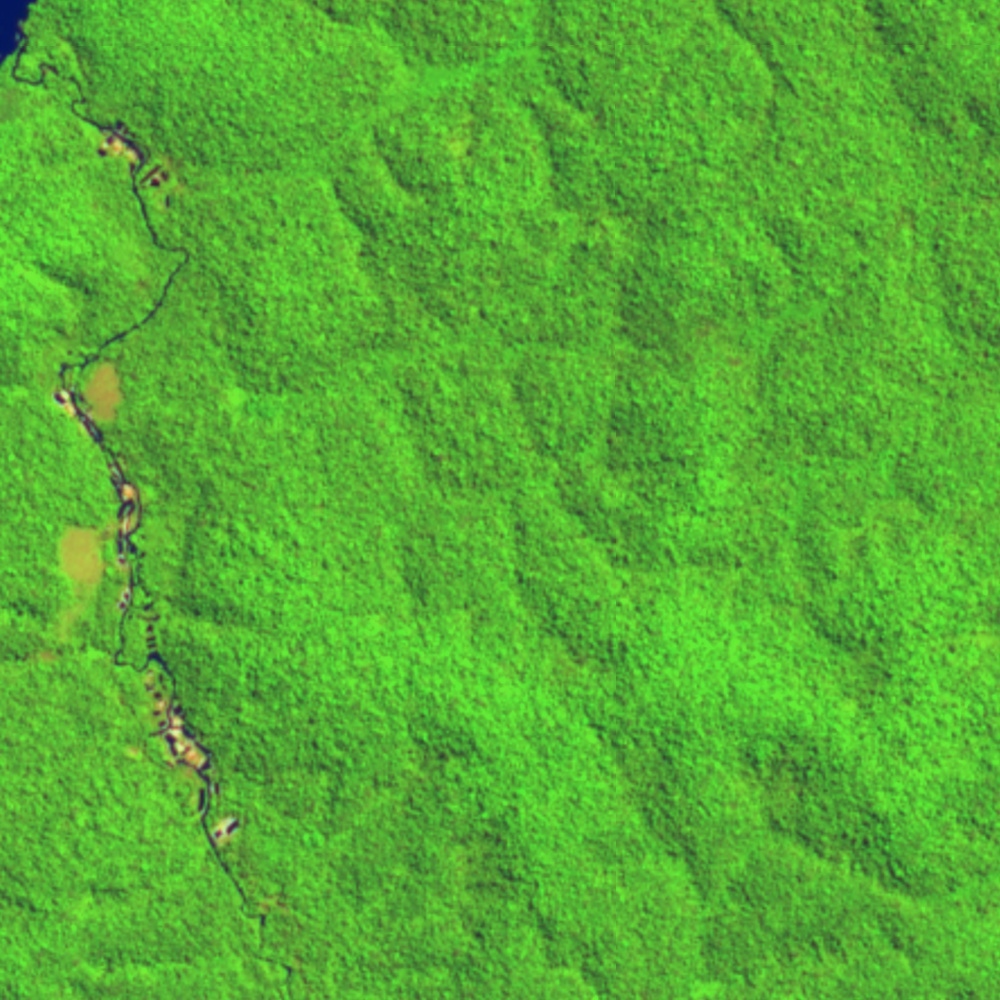illegal: (46, 355, 241, 858), (93, 112, 181, 209)
